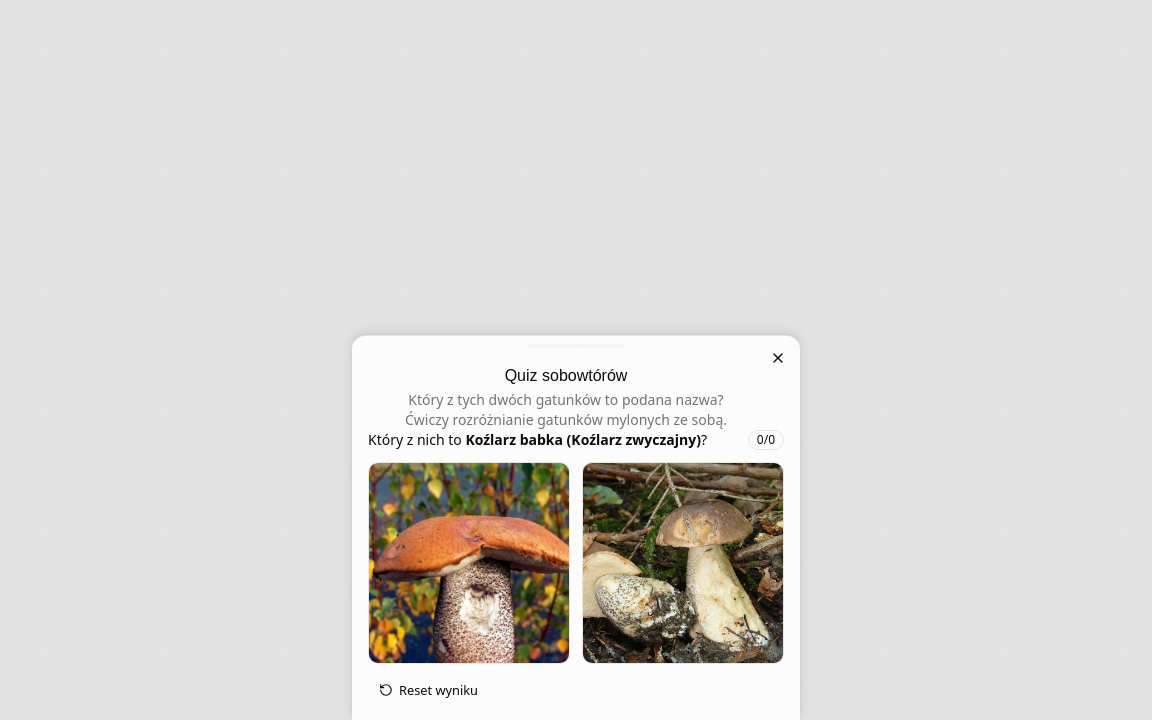
Test: LookalikeQuiz › "Reset wyniku" zeruje licznik i losuje nową rundę
Click the button named "Kandydat A" at (469, 563), box [368, 462, 570, 664]
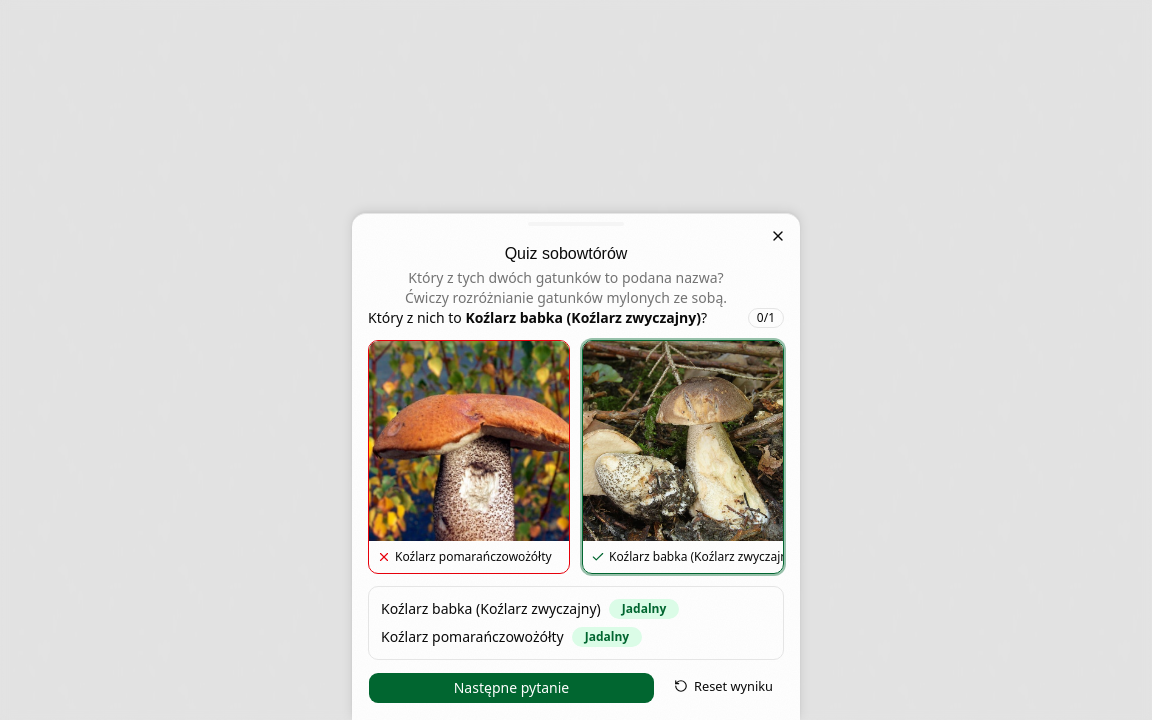
Click the button "Reset wyniku" at (724, 686), box [663, 672, 784, 700]
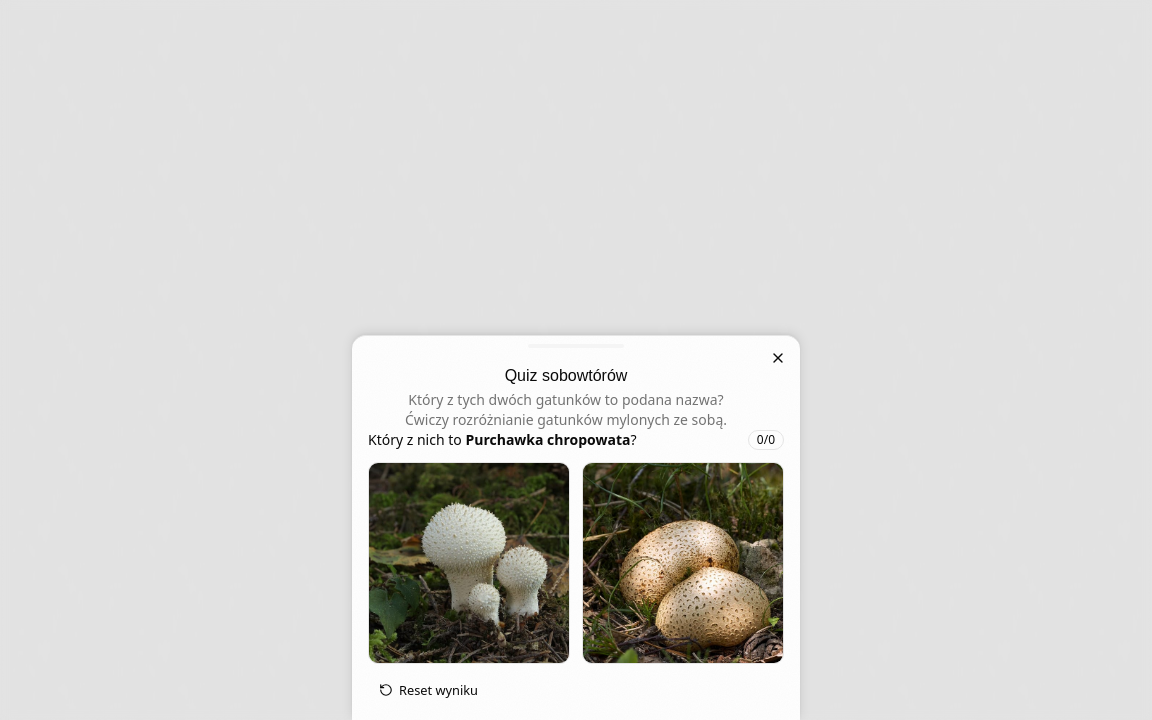
Expected: the number of buttons named "Kandydat A" is 2, [368, 462, 570, 664]; [582, 462, 784, 664]
Expected: the icon "0/0" is shown, [748, 430, 784, 450]
